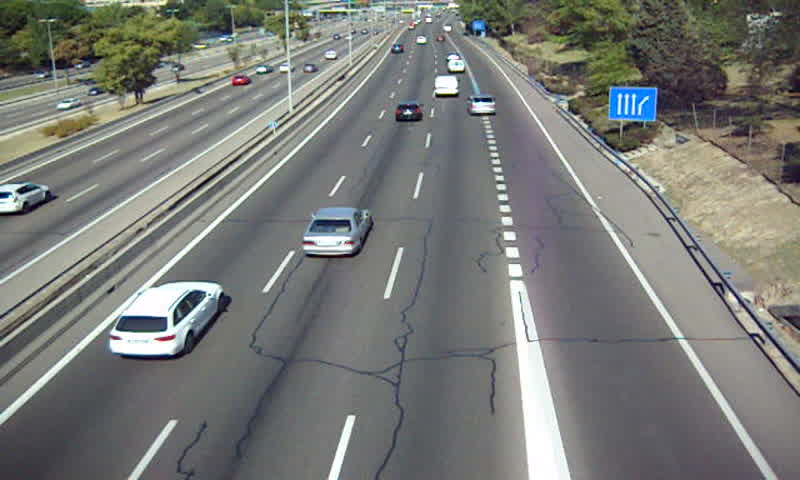car: (110, 281, 224, 358), (301, 207, 372, 256), (394, 102, 423, 123), (469, 96, 496, 116)
van: (434, 75, 459, 98), (450, 58, 466, 74)
